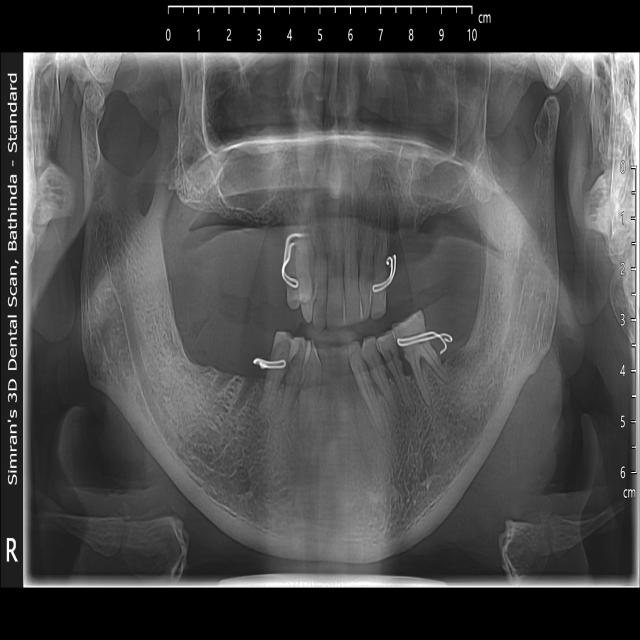Missing teeth: (198, 197, 283, 283), (389, 207, 462, 291), (182, 335, 258, 414)
